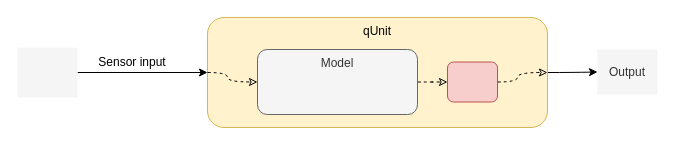
Some shapes in this 674 by 145 pixel diagram are drawn without their labels. Here are the shapes that lost their labels. From the top down, the centre of each, then its label:
(x=47, y=72): Outer World
(x=472, y=81): Burst
